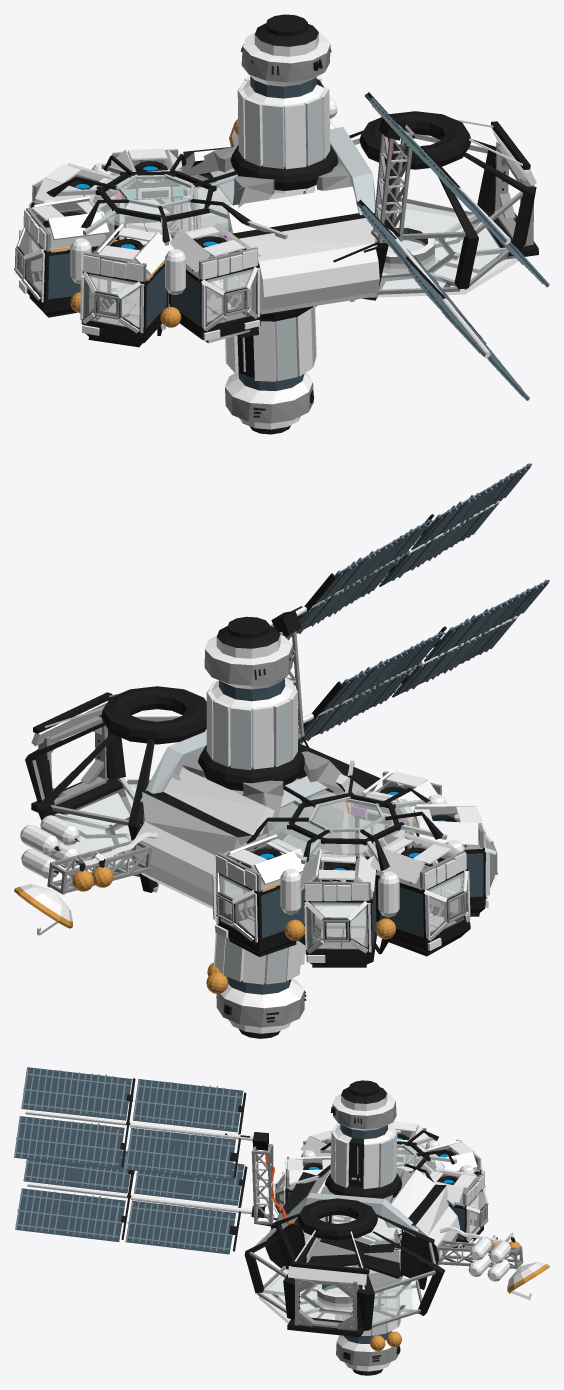
Rendered from Wikiplanet Space Station (WSS).glb.
3 views of the same model, one above another, from view 1: azimuth 30°, elevation 25°; view 2: azimuth 150°, elevation 25°; view 3: azimuth 270°, elevation 25° (orthographic). The views are drawn at different scales.
Visible parts, largest first — view 1: group1540608288, group667074071, group2133844411, group214604975, group390282592, group957492129, group1452247974, group2011162389, group1251701629, group866227186, group1877353975, group431581955 (+22 smaller); view 2: group1540608288, group214604975, group1877353975, group2084726423, group1423468983, group2133844411, group2011162389, group1655313069, group431581955, group866227186, group1802495376, group667074071 (+25 smaller); view 3: group2084726423, group1877353975, group1540608288, group1452247974, group2133844411, group1423468983, group866227186, group214604975, group431581955, group667074071, group320118906, group61381513 (+25 smaller).
Part boxes in pixels (<box>): group1540608288: <box>230,14,338,193</box>; group667074071: <box>232,213,379,314</box>; group2133844411: <box>225,306,316,434</box>; group214604975: <box>46,154,287,245</box>; group390282592: <box>80,234,168,347</box>; group957492129: <box>169,233,260,343</box>; group1452247974: <box>370,203,518,297</box>; group2011162389: <box>14,208,105,317</box>; group1251701629: <box>227,186,358,233</box>; group866227186: <box>359,111,470,169</box>; group1877353975: <box>356,199,529,400</box>; group431581955: <box>112,149,187,244</box>; group1540608288: <box>198,616,304,794</box>; group214604975: <box>223,760,447,870</box>; group1877353975: <box>298,579,549,743</box>; group2084726423: <box>285,463,531,638</box>; group1423468983: <box>132,790,252,909</box>; group2133844411: <box>214,923,305,1038</box>; group2011162389: <box>375,842,470,956</box>; group1655313069: <box>304,858,376,967</box>; group431581955: <box>212,844,304,956</box>; group866227186: <box>101,686,206,744</box>; group1802495376: <box>163,768,274,834</box>; group667074071: <box>276,743,380,854</box>; group2084726423: <box>14,1067,253,1181</box>; group1877353975: <box>15,1150,252,1254</box>; group1540608288: <box>325,1080,402,1198</box>; group1452247974: <box>259,1264,412,1323</box>; group2133844411: <box>335,1265,402,1375</box>; group1423468983: <box>399,1184,460,1277</box>; group866227186: <box>297,1198,377,1240</box>; group214604975: <box>289,1130,456,1206</box>; group431581955: <box>437,1173,489,1247</box>; group667074071: <box>265,1172,325,1269</box>; group320118906: <box>281,1193,418,1236</box>; group61381513: <box>251,1144,274,1224</box>.
Bounding box in the file's own units: 6.29 × 5.25 × 8.77.
